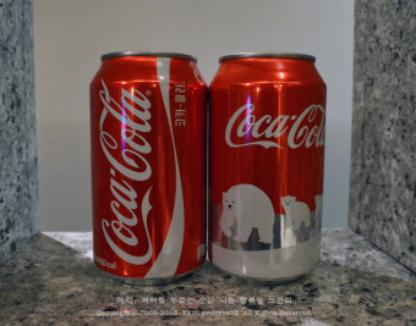Can: (88, 51, 209, 289), (208, 53, 324, 284)
